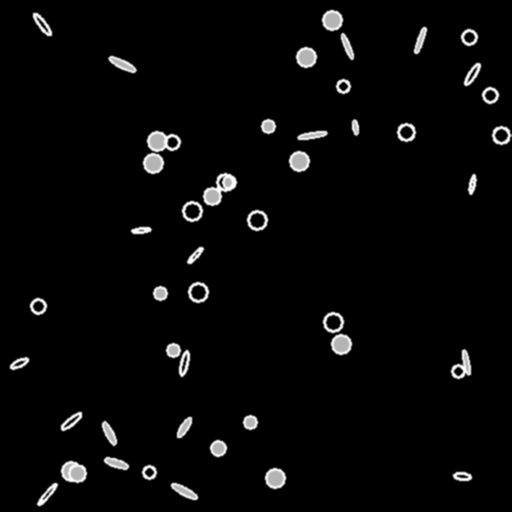pseudomonas: (170, 481, 198, 501), (31, 12, 53, 36), (108, 55, 136, 73), (59, 411, 83, 431), (37, 483, 57, 505), (463, 62, 481, 86), (339, 33, 355, 59), (101, 421, 117, 445), (413, 27, 427, 53), (176, 416, 192, 438), (104, 456, 128, 470), (186, 246, 204, 264), (178, 351, 190, 375), (9, 356, 29, 370), (298, 130, 326, 140), (461, 349, 471, 375), (453, 471, 471, 481), (132, 226, 150, 234), (468, 175, 476, 193), (351, 119, 359, 135)
synechocystis: (144, 154, 162, 172), (189, 283, 207, 301), (324, 313, 342, 331), (62, 462, 80, 480), (148, 132, 166, 150), (332, 335, 350, 353), (297, 48, 315, 66), (248, 211, 266, 229), (290, 152, 308, 170), (323, 11, 341, 29), (266, 469, 284, 487), (183, 202, 201, 220), (217, 174, 233, 190), (398, 124, 414, 140), (204, 188, 220, 204), (493, 127, 509, 143), (69, 465, 85, 481), (31, 299, 45, 313), (462, 30, 476, 44), (165, 135, 179, 149), (211, 441, 225, 455), (483, 88, 497, 102), (337, 80, 349, 92), (154, 287, 166, 299), (262, 120, 274, 132), (223, 176, 235, 188), (167, 344, 179, 356), (244, 416, 256, 428), (452, 365, 464, 377), (143, 466, 155, 478)
